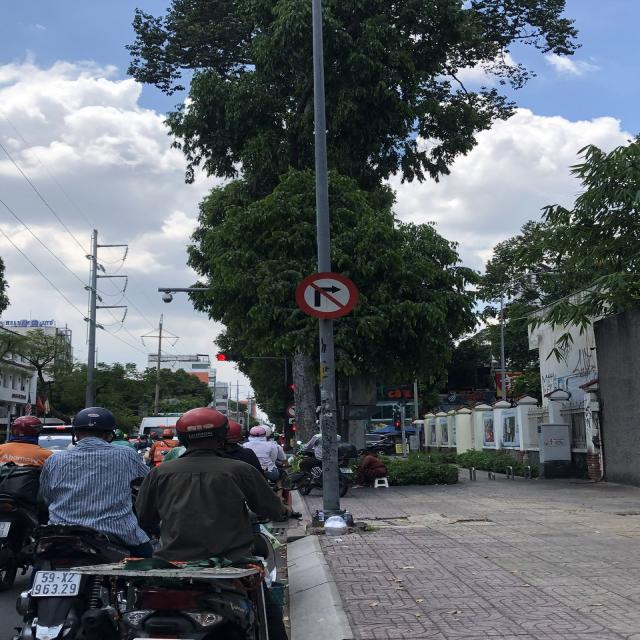Bien bao cam re phai: (292, 266, 364, 321)
